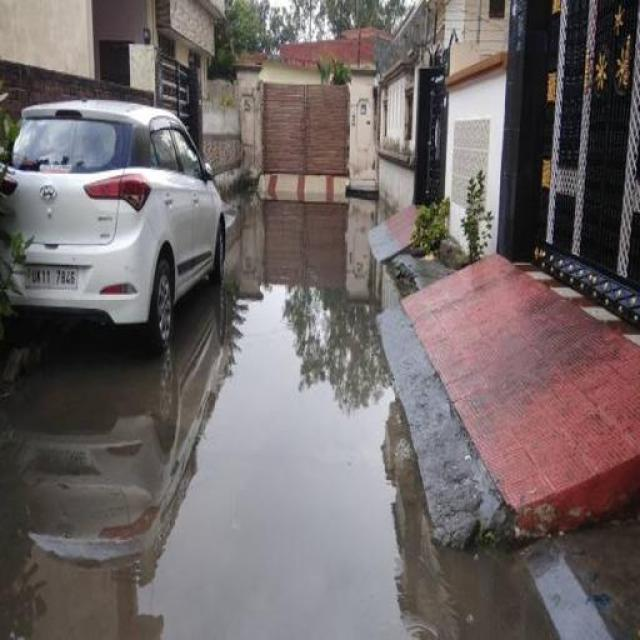puddle: (55, 369, 397, 620), (246, 203, 340, 640)
